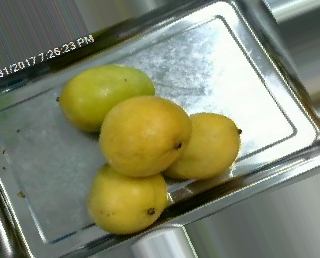Mango: (99, 97, 194, 177), (60, 66, 156, 130), (87, 162, 166, 233), (165, 113, 242, 179)
